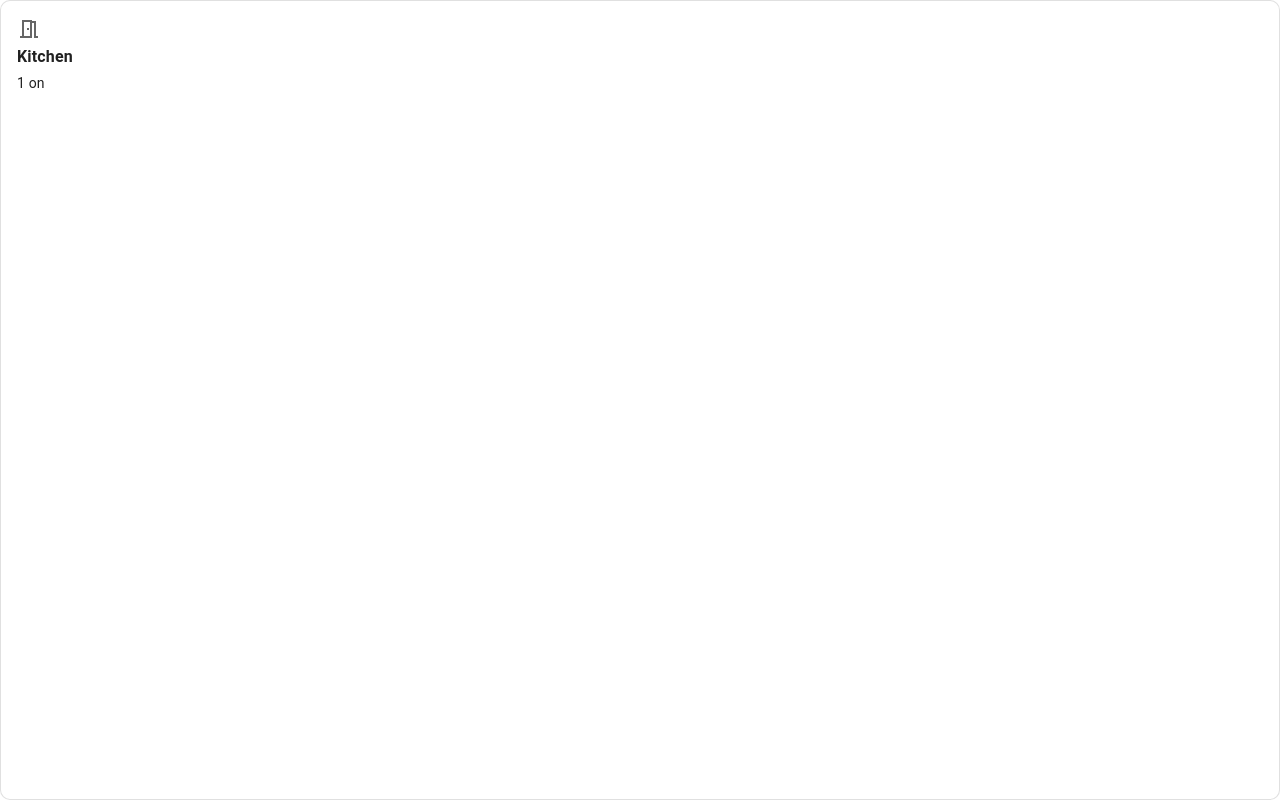
it: Room widget tile › opens the room when tapped
Click the button named "Room summary widget": (640,400) [1, 1, 1279, 799]
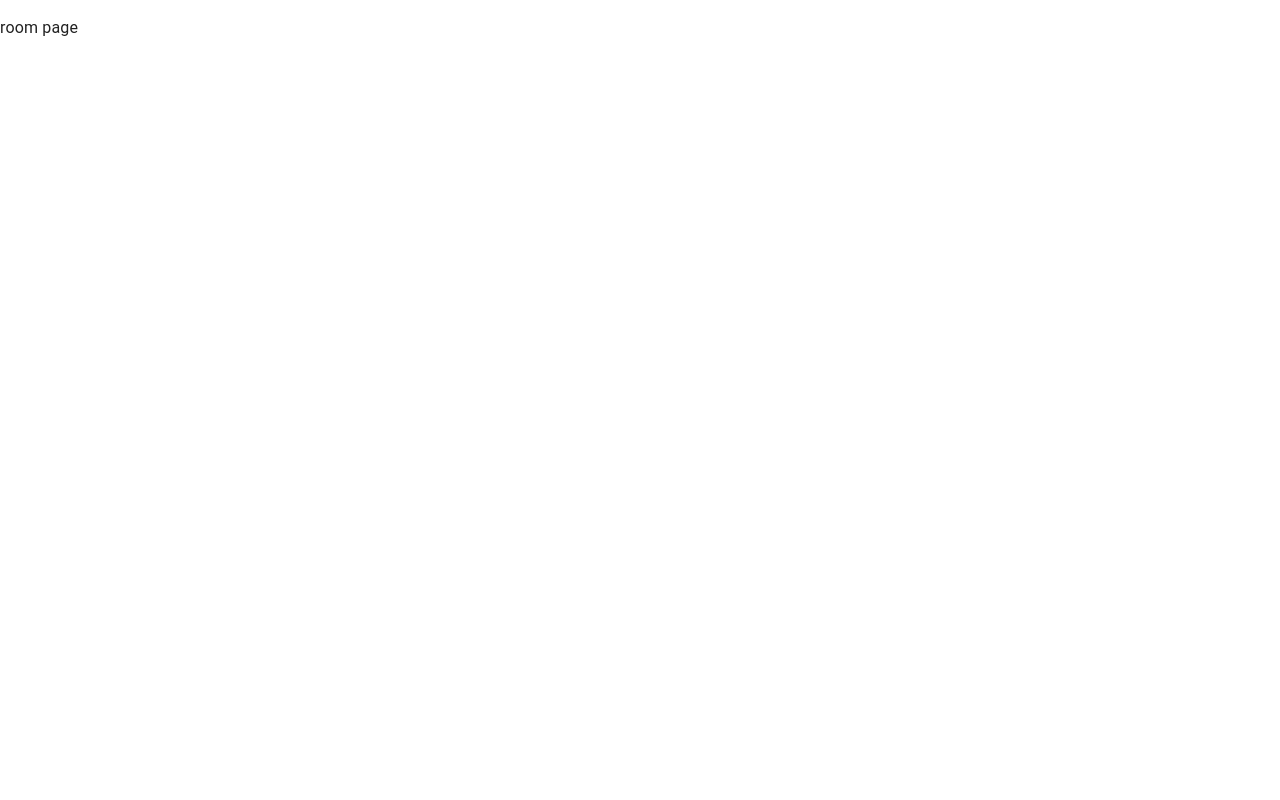
Expected: the text "room page" is shown, [0, 18, 78, 37]
